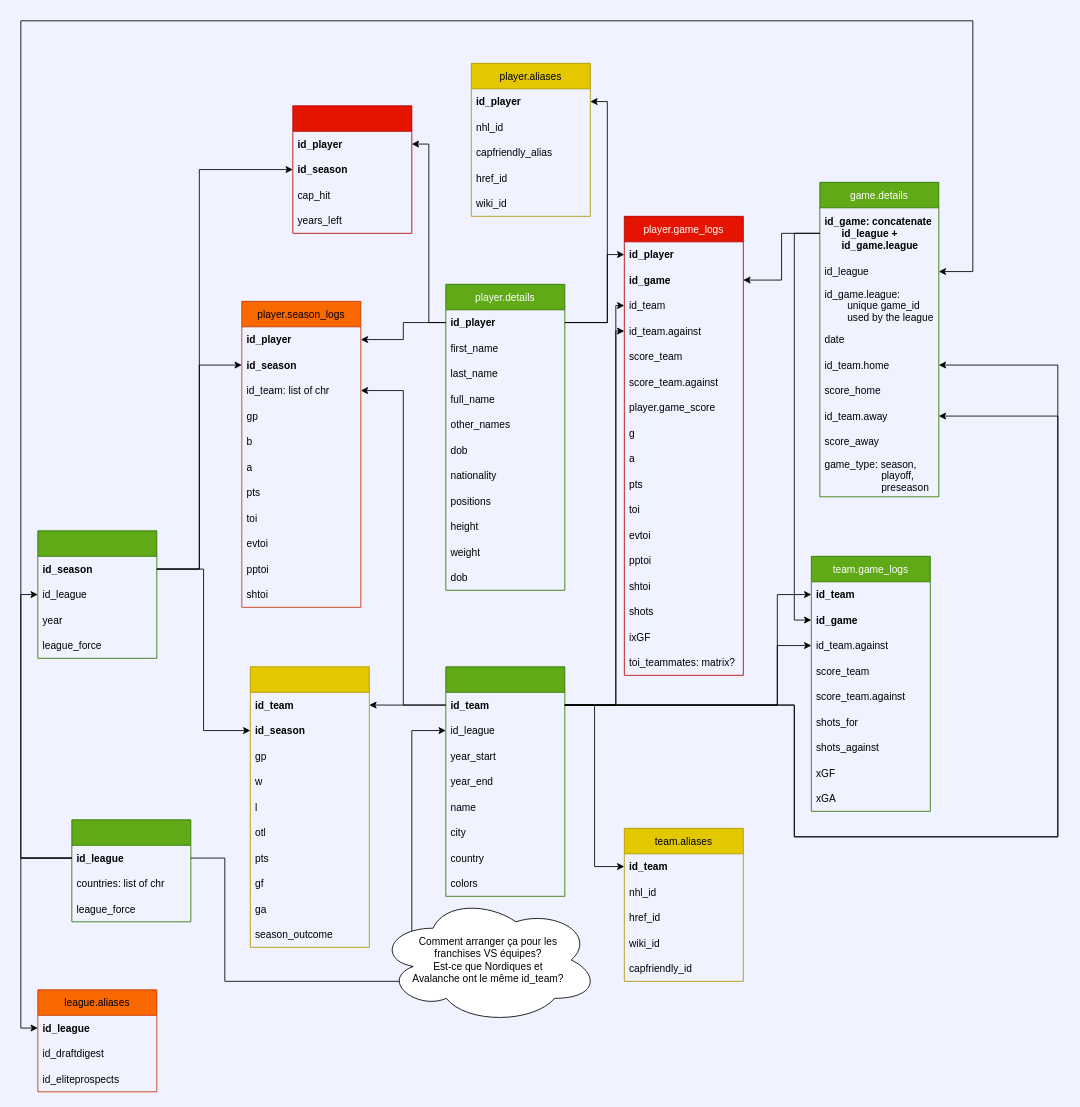
Some shapes in this 1080 by 1107 pixel diagram are drawn without their labels. Each missing label, with the box of its shape:
league.details: (71, 819, 191, 922)
player.salary: (292, 105, 412, 233)
season.details: (37, 530, 157, 658)
team.details: (445, 666, 565, 896)
team.season_logs: (249, 666, 369, 947)
